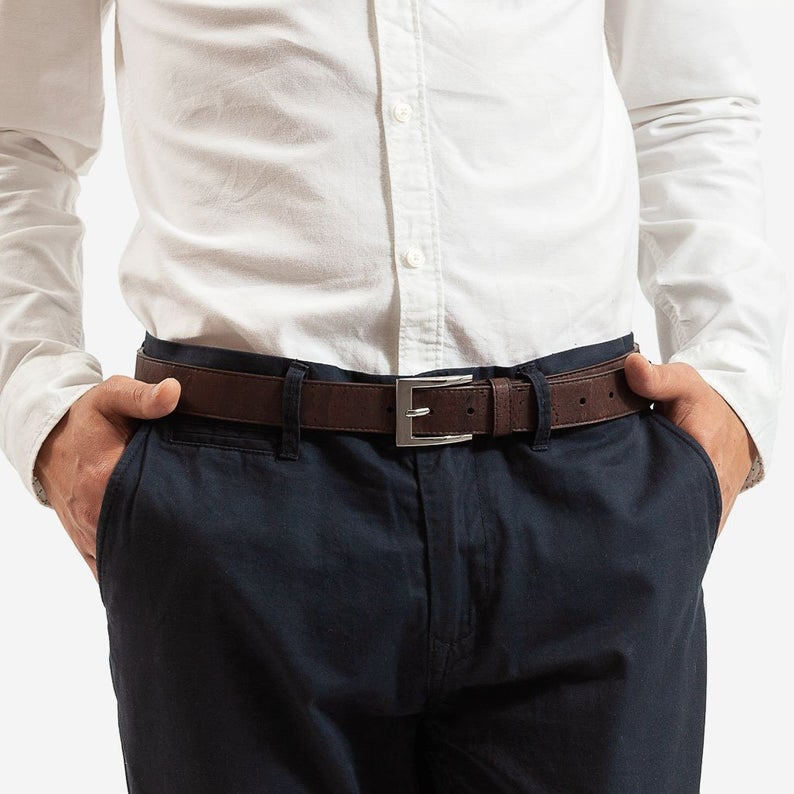F_belt: (120, 351, 669, 450)
F_dress pants: (92, 361, 720, 793)
F_shirt: (6, 2, 794, 489)
